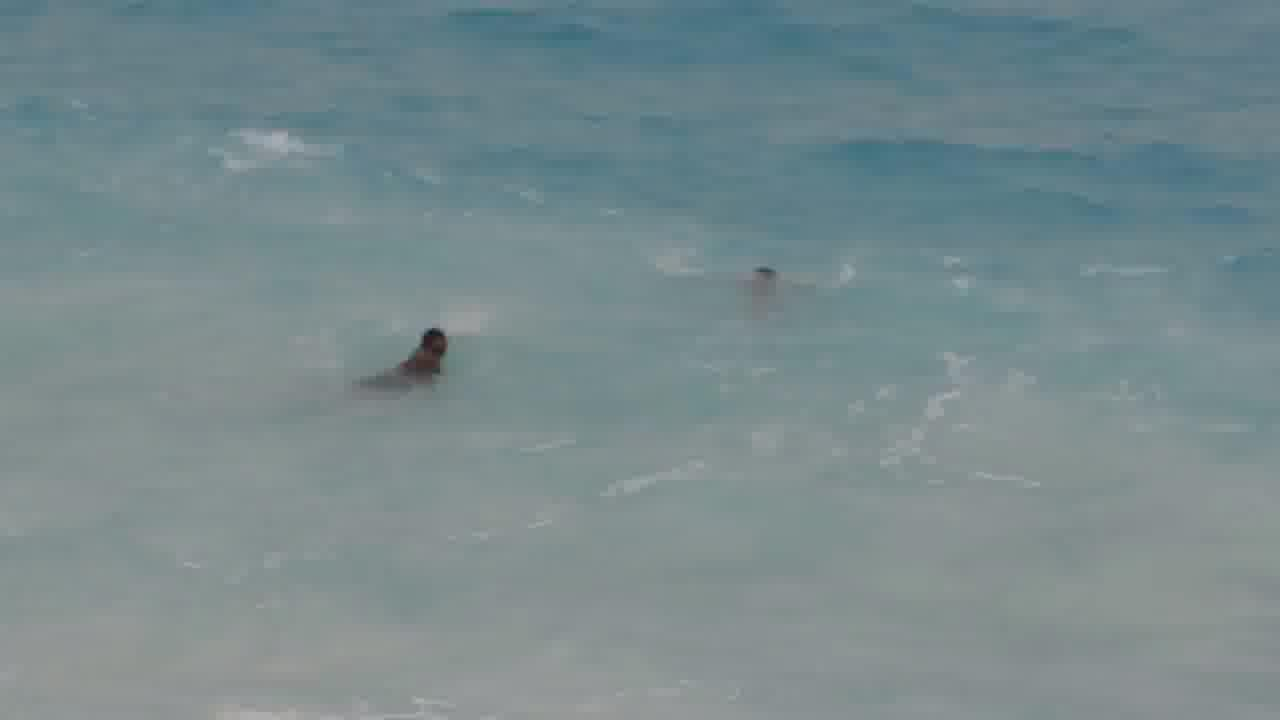swimmer: (398, 324, 458, 376), (745, 253, 786, 292)
